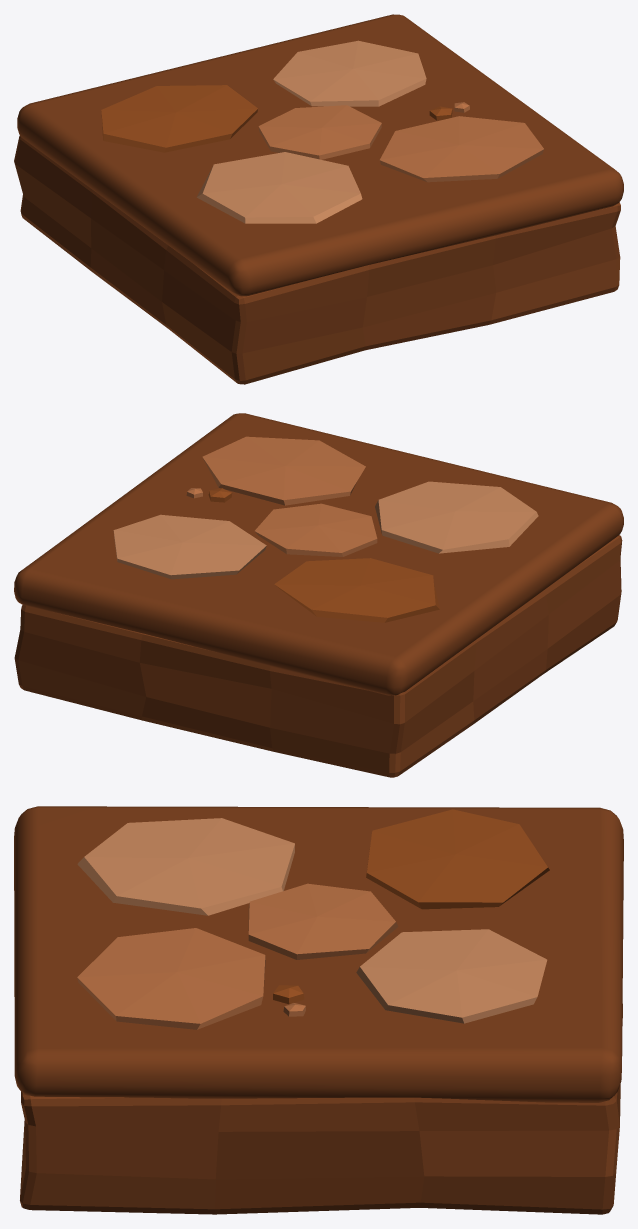
Rendered from tile_clay.glb.
3 renders of one model, top to bottom at view 1: azimuth 30°, elevation 25°; view 2: azimuth 150°, elevation 25°; view 3: azimuth 270°, elevation 25°, orthographic. The views are drawn at different scales.
Visible parts, largest first — view 1: clay_cap, clay_body, clay_plate_0, clay_plate_1, clay_plate_2, clay_plate_3, clay_plate_4; view 2: clay_cap, clay_body, clay_plate_0, clay_plate_1, clay_plate_2, clay_plate_3, clay_plate_4; view 3: clay_cap, clay_body, clay_plate_0, clay_plate_1, clay_plate_2, clay_plate_3, clay_plate_4.
Part boxes in pixels (x1,y1,x2,y2): clay_cap: (17, 14, 623, 296); clay_body: (14, 135, 620, 384); clay_plate_0: (196, 152, 362, 223); clay_plate_1: (379, 116, 544, 182); clay_plate_2: (101, 85, 258, 152); clay_plate_3: (273, 40, 426, 106); clay_plate_4: (258, 105, 381, 159); clay_cap: (14, 413, 623, 695); clay_body: (14, 535, 622, 777); clay_plate_0: (375, 481, 538, 553); clay_plate_1: (202, 436, 365, 505); clay_plate_2: (274, 558, 439, 622); clay_plate_3: (113, 514, 266, 579); clay_plate_4: (254, 503, 377, 556); clay_cap: (14, 806, 623, 1102); clay_body: (20, 1004, 622, 1214); clay_plate_0: (77, 818, 294, 915); clay_plate_1: (77, 928, 265, 1029); clay_plate_2: (366, 809, 549, 909); clay_plate_3: (356, 929, 547, 1023); clay_plate_4: (248, 883, 398, 959).
Size of the model in its own units: 1.71 by 0.5581 by 1.7.
